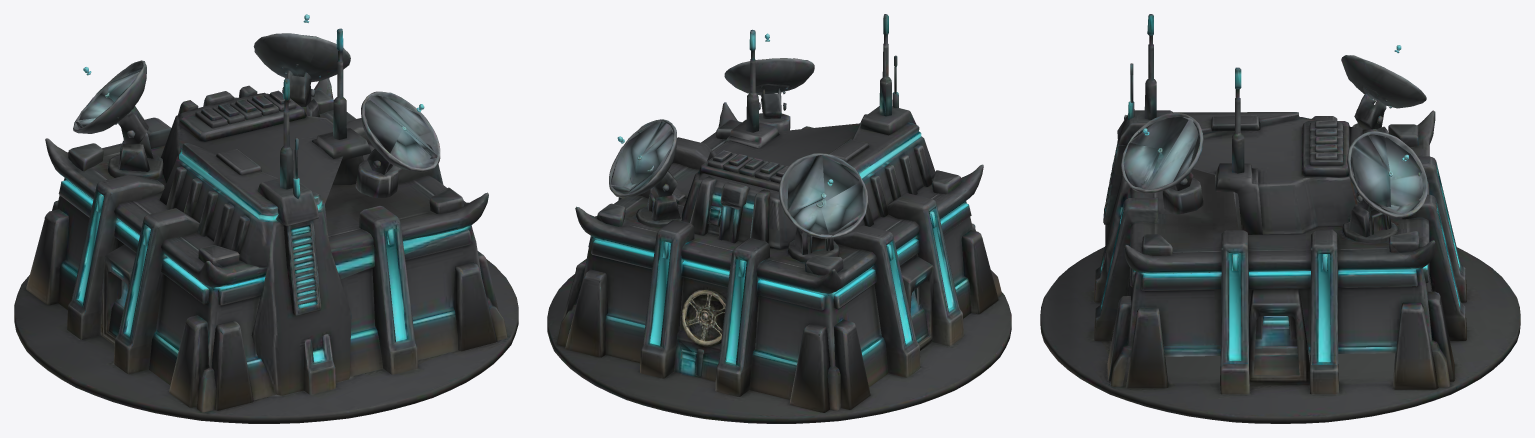
File: siege_works.glb
3 views of the same model, side by side, from view 1: azimuth 30°, elevation 25°; view 2: azimuth 150°, elevation 25°; view 3: azimuth 270°, elevation 25° (orthographic). The views are drawn at different scales.
Parts seen in each view (by area): view 1: Body, Trim; view 2: Body, Trim; view 3: Body, Trim.
Part boxes in pixels (box(x1,y1,x2,y2)): Body: box(14, 28, 518, 423); Trim: box(61, 14, 471, 366); Body: box(547, 14, 1011, 423); Trim: box(591, 15, 969, 376); Body: box(1040, 14, 1520, 423); Trim: box(1100, 15, 1460, 364).
Bounding box in the file's own units: 16 × 10.49 × 16.
Materials: 2 (2 with a texture image).
